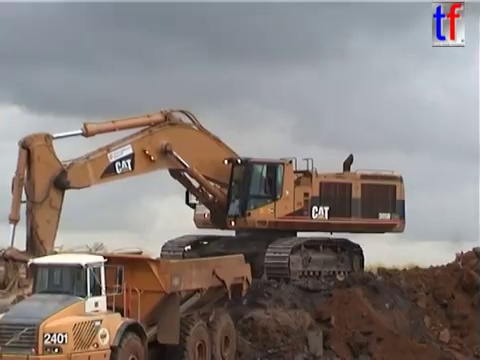excavator: (1, 106, 408, 317)
motor grader: (448, 249, 480, 274)
truck: (1, 248, 254, 360)
